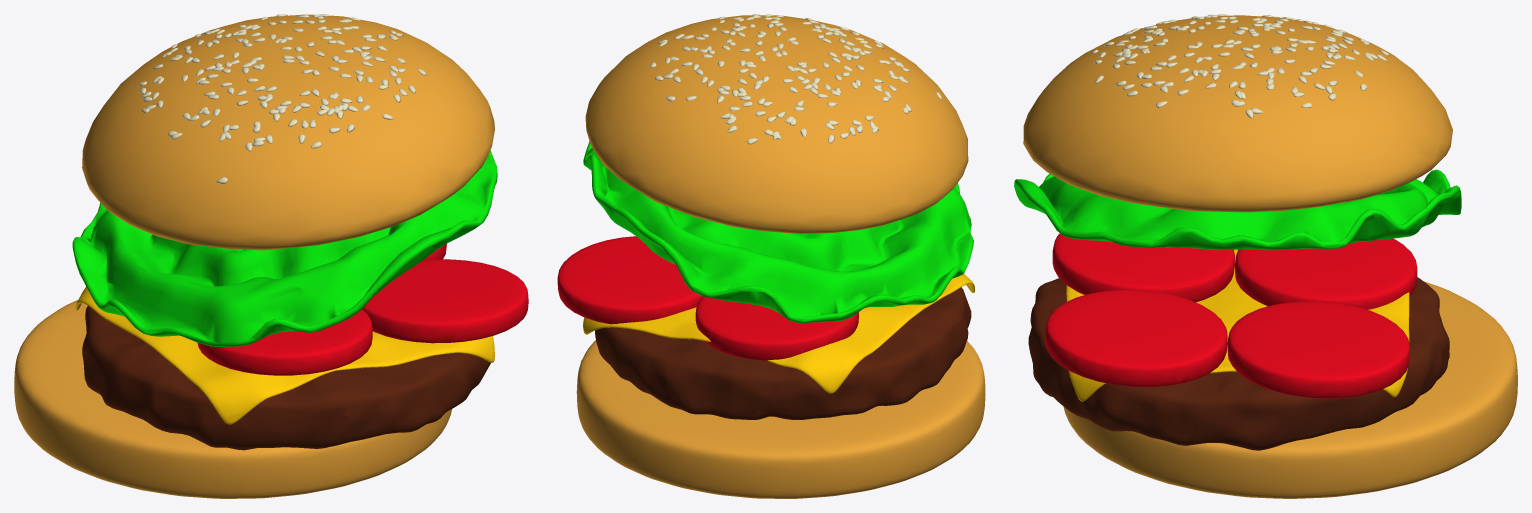
File: burger.glb
3 views of the same model, side by side, from view 1: azimuth 30°, elevation 25°; view 2: azimuth 150°, elevation 25°; view 3: azimuth 270°, elevation 25° (orthographic). The views are drawn at different scales.
Parts seen in each view (by area): view 1: 球.001, 球, 円柱, 円柱.001, 円柱.002, 平面, ごま.200; view 2: 球.001, 円柱, 球, 円柱.001, 円柱.002, 平面, ごま.200; view 3: 球.001, 円柱.002, 円柱, 円柱.001, 球, ごま.200, 平面.
Boxes of the visible parts, x1,y1,x2,y2 form: 球.001: (82, 14, 494, 250); 球: (72, 150, 497, 346); 円柱: (14, 300, 451, 498); 円柱.001: (82, 306, 490, 450); 円柱.002: (197, 243, 528, 375); 平面: (75, 286, 494, 424); ごま.200: (138, 14, 426, 184); 球.001: (585, 15, 968, 234); 円柱: (576, 340, 985, 498); 球: (583, 141, 973, 322); 円柱.001: (595, 287, 971, 419); 円柱.002: (557, 236, 858, 360); 平面: (583, 274, 975, 393); ごま.200: (650, 14, 941, 144); 球.001: (1023, 15, 1452, 212); 円柱.002: (1045, 233, 1417, 398); 円柱: (1063, 281, 1517, 498); 円柱.001: (1028, 277, 1449, 450); 球: (1014, 169, 1461, 250); ごま.200: (1092, 14, 1389, 118); 平面: (1066, 249, 1409, 401).
Bounding box in the file's own units: 3.95 × 3.47 × 4.1.
